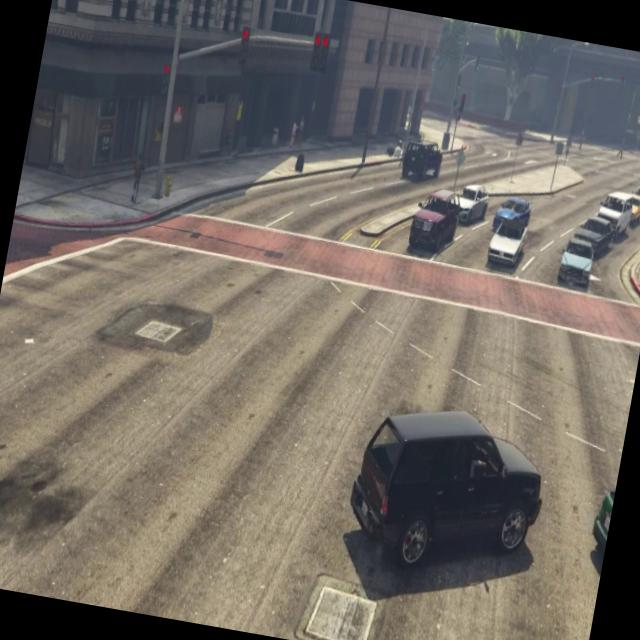Red-Signal: (302, 24, 336, 86), (228, 17, 256, 77), (153, 58, 175, 106)
